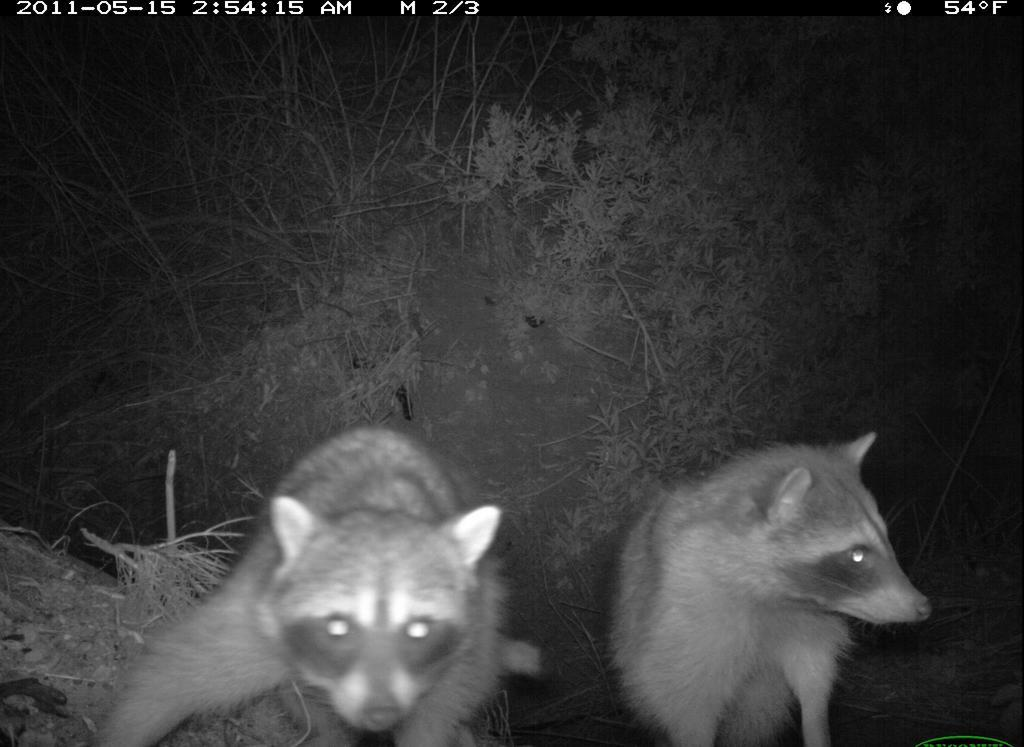raccoon: (97, 422, 546, 739), (600, 419, 954, 745)
